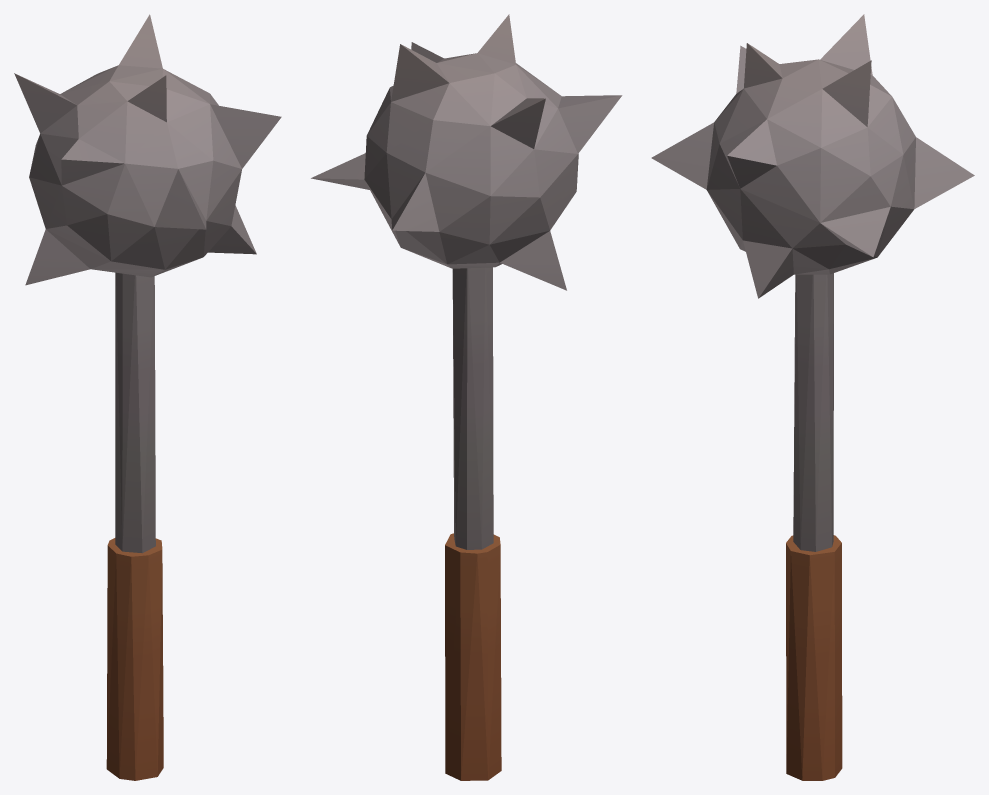
File: SM_Mace_01.glb
3 renders of one model, left to right at view 1: azimuth 30°, elevation 25°; view 2: azimuth 150°, elevation 25°; view 3: azimuth 270°, elevation 25°, orthographic.
Visible parts, largest first — view 1: SM_Mace_01; view 2: SM_Mace_01; view 3: SM_Mace_01.
Boxes of the visible parts, left/top/right/bottom form: SM_Mace_01: left=14, top=14, right=281, bottom=780; SM_Mace_01: left=311, top=14, right=622, bottom=780; SM_Mace_01: left=651, top=14, right=974, bottom=780.
Size of the model in its own units: 0.2987 by 0.8575 by 0.3446.
Materials: 1 (1 with a texture image).
